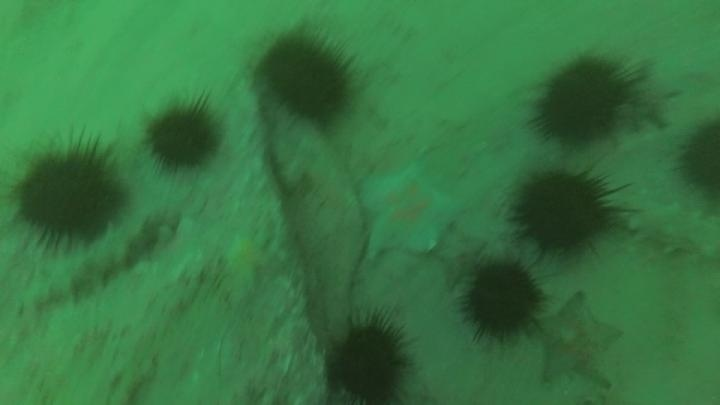echinus: (11, 139, 128, 250), (255, 29, 359, 127), (531, 52, 637, 147), (512, 166, 620, 257), (324, 312, 414, 404), (458, 260, 545, 336), (143, 98, 222, 173), (675, 116, 720, 201)
holothurian: (14, 212, 167, 310), (620, 195, 719, 261)
starfish: (356, 158, 464, 260), (532, 291, 625, 394), (620, 64, 684, 130), (218, 228, 275, 299), (438, 239, 489, 292)
